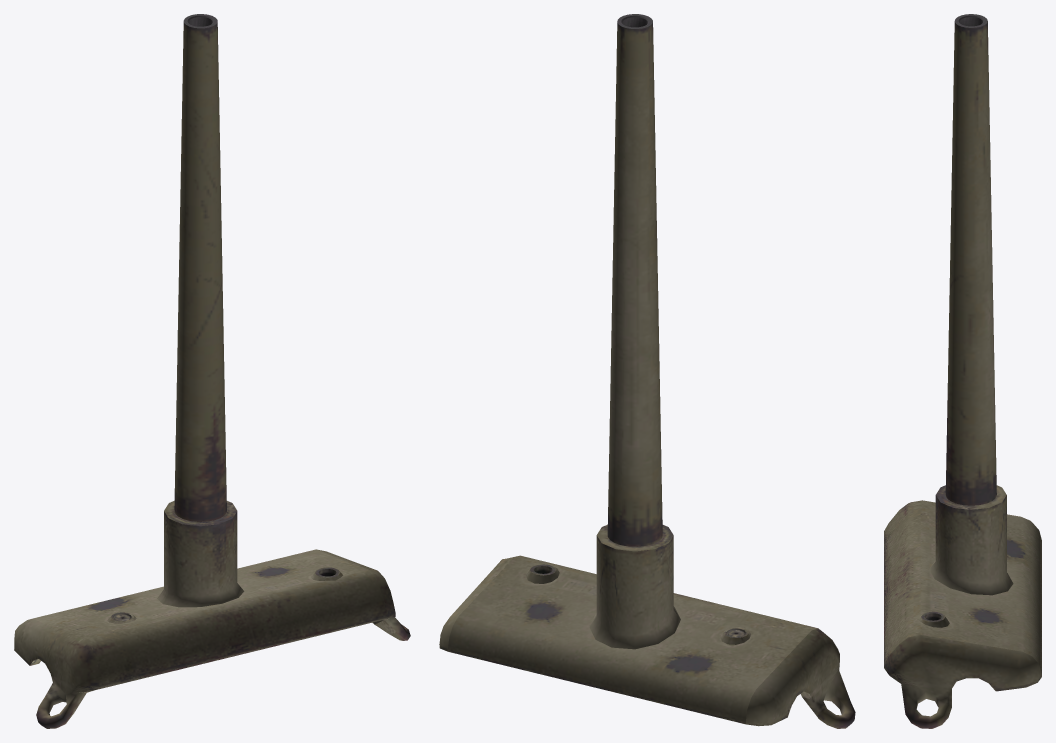
File: Gun_01.glb
The picture shows the model from 3 angles, left to right: view 1: azimuth 30°, elevation 25°; view 2: azimuth 150°, elevation 25°; view 3: azimuth 270°, elevation 25°; orthographic projection. The views are drawn at different scales.
Parts seen in each view (by area): view 1: set_0_group_0; view 2: set_0_group_0; view 3: set_0_group_0.
Boxes of the visible parts, x1=… form: set_0_group_0: x1=14, y1=14, x2=410, y2=728; set_0_group_0: x1=439, y1=14, x2=855, y2=728; set_0_group_0: x1=884, y1=14, x2=1041, y2=728.
Bounding box in the file's own units: 1.34 × 2.26 × 0.5169.
1 material, 1 textured.
